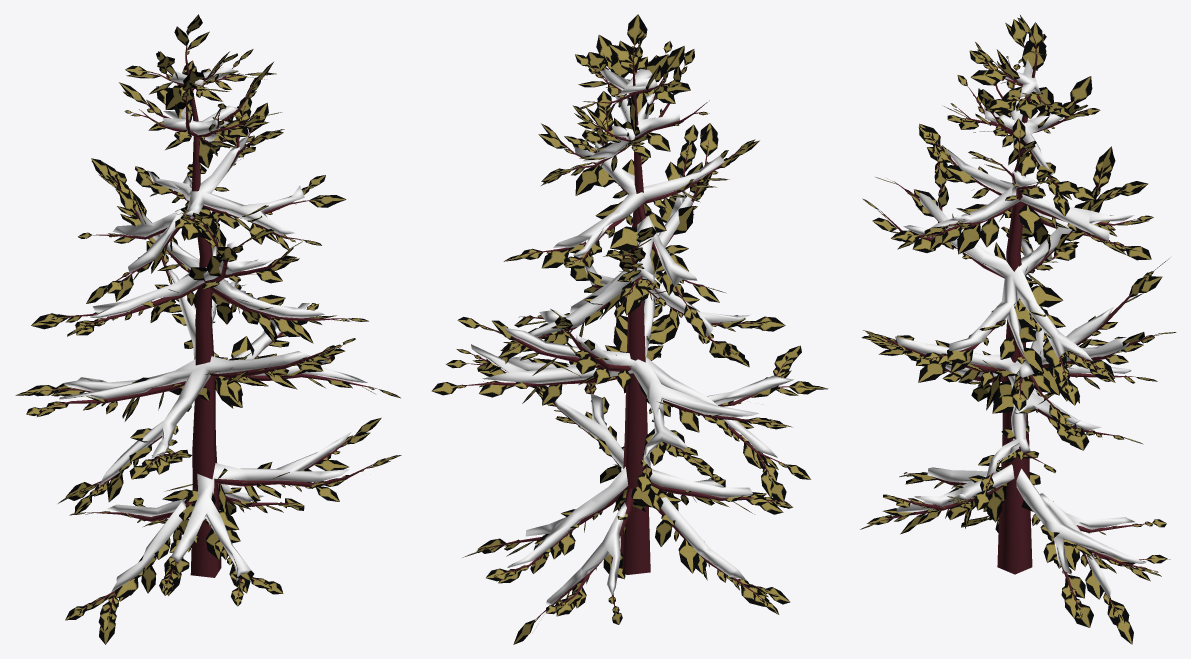
File: tree1.glb
3 renders of one model, left to right at view 1: azimuth 30°, elevation 25°; view 2: azimuth 150°, elevation 25°; view 3: azimuth 270°, elevation 25°, orthographic.
Visible parts, largest first — view 1: leaves, SnowBall.001, tree; view 2: leaves, SnowBall.001, tree; view 3: leaves, SnowBall.001, tree.
Part boxes in pixels (x1,y1,x2,y2): leaves: (15,14,401,644); SnowBall.001: (59,67,367,592); tree: (40,32,378,614); leaves: (431,14,828,644); SnowBall.001: (471,69,793,604); tree: (459,43,797,618); leaves: (860,15,1176,644); SnowBall.001: (895,59,1146,597); tree: (870,35,1156,612).
Size of the model in its own units: 3.34 by 5.58 by 2.7.
3 materials, 1 textured.
